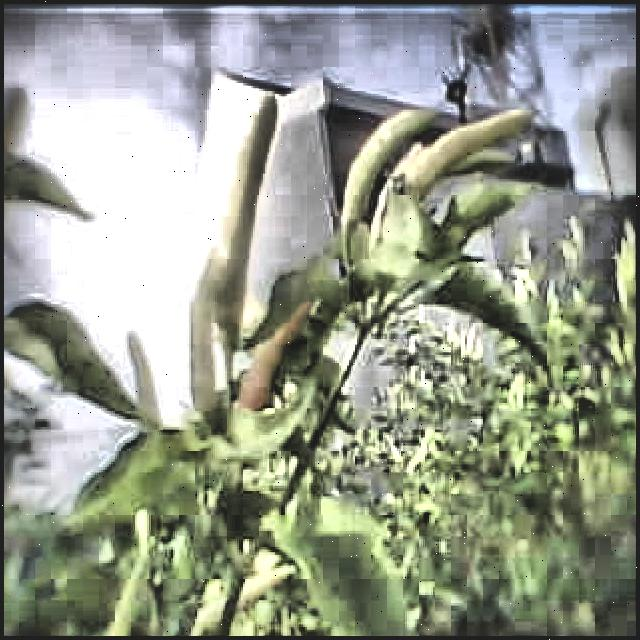Cabai: (214, 91, 313, 314), (327, 103, 439, 243), (242, 299, 306, 427), (119, 326, 185, 426)
